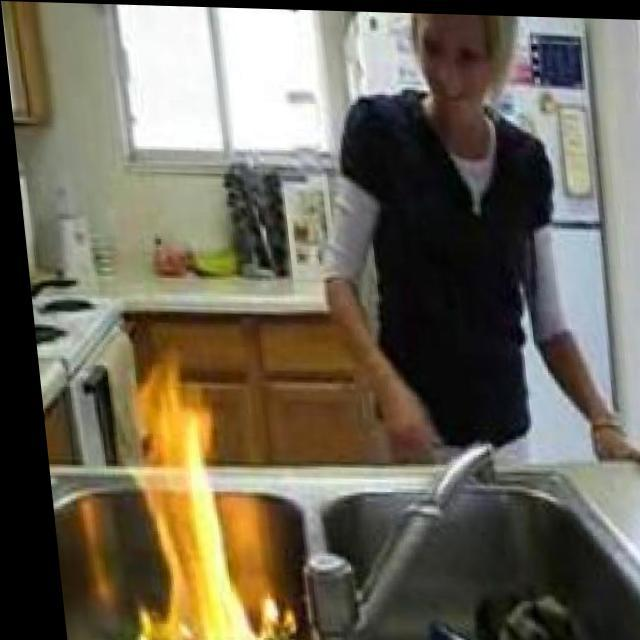fire: (100, 342, 266, 640)
